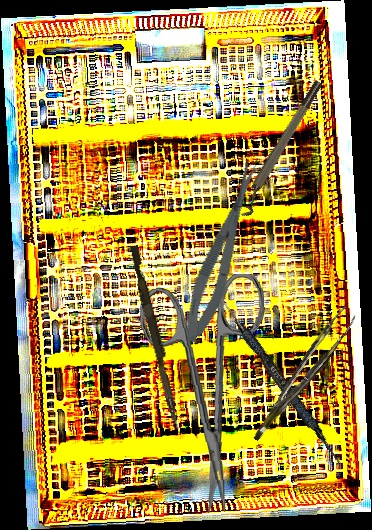Fixation Ring: (231, 78, 331, 220)
Iris Scissors: (137, 272, 276, 517)
Micro Scissor: (175, 157, 270, 347)
Pusher: (125, 245, 187, 430)
Spatula Surgical: (205, 283, 349, 468)
Tissue Forceps: (238, 305, 364, 442)
